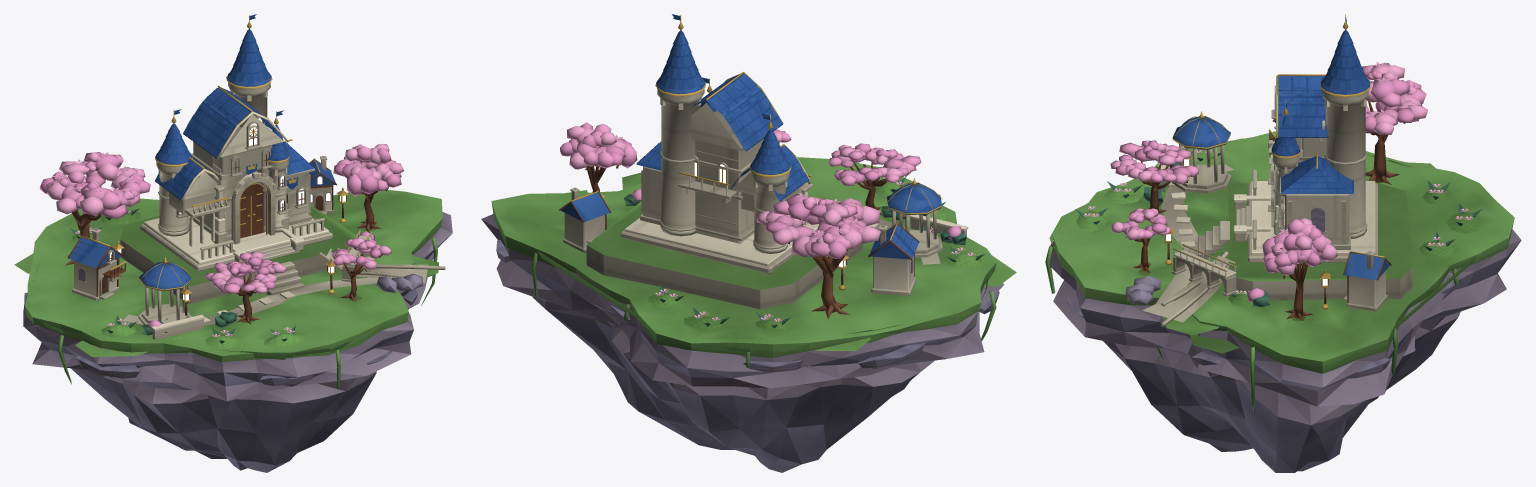
The model's file is royal-island-right-final-v1-balanced.glb.
3 renders of one model, left to right at view 1: azimuth 30°, elevation 25°; view 2: azimuth 150°, elevation 25°; view 3: azimuth 270°, elevation 25°, orthographic. The views are drawn at different scales.
Parts seen in each view (by area): view 1: royal-island-right-final-v1; view 2: royal-island-right-final-v1; view 3: royal-island-right-final-v1.
Boxes of the visible parts, bbox=[...] form: royal-island-right-final-v1: bbox=[14, 14, 452, 472]; royal-island-right-final-v1: bbox=[481, 14, 1016, 472]; royal-island-right-final-v1: bbox=[1045, 14, 1521, 472].
Size of the model in its own units: 18.84 by 16.72 by 15.83.
Materials: 10 (10 with a texture image).
